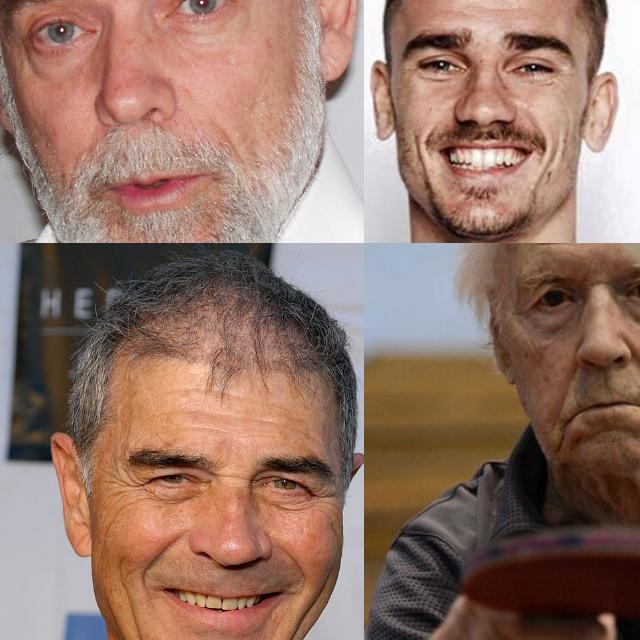crows_feet: (108, 470, 148, 506), (311, 483, 343, 513)
forehead: (258, 412, 316, 440), (186, 381, 237, 405), (528, 243, 569, 252)
frown_line: (216, 469, 254, 489)
gummy_smile: (136, 530, 174, 576), (210, 124, 248, 158), (285, 548, 313, 586), (634, 355, 640, 399)
masseter: (120, 593, 157, 640), (284, 591, 318, 640), (412, 128, 432, 182), (546, 125, 570, 169)
sad_smile: (554, 423, 570, 455)
